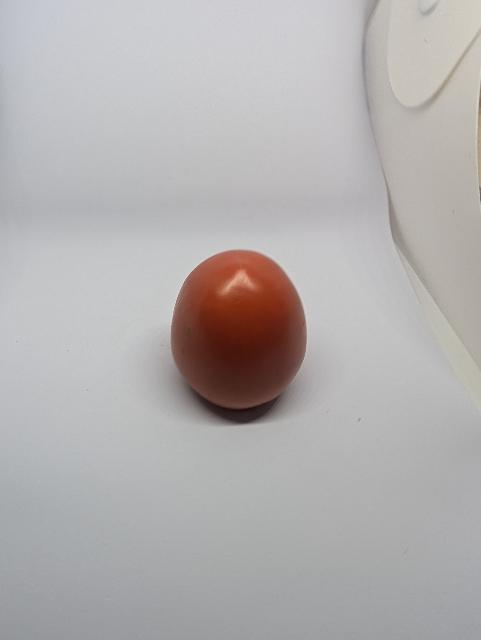red: (140, 230, 323, 419)
